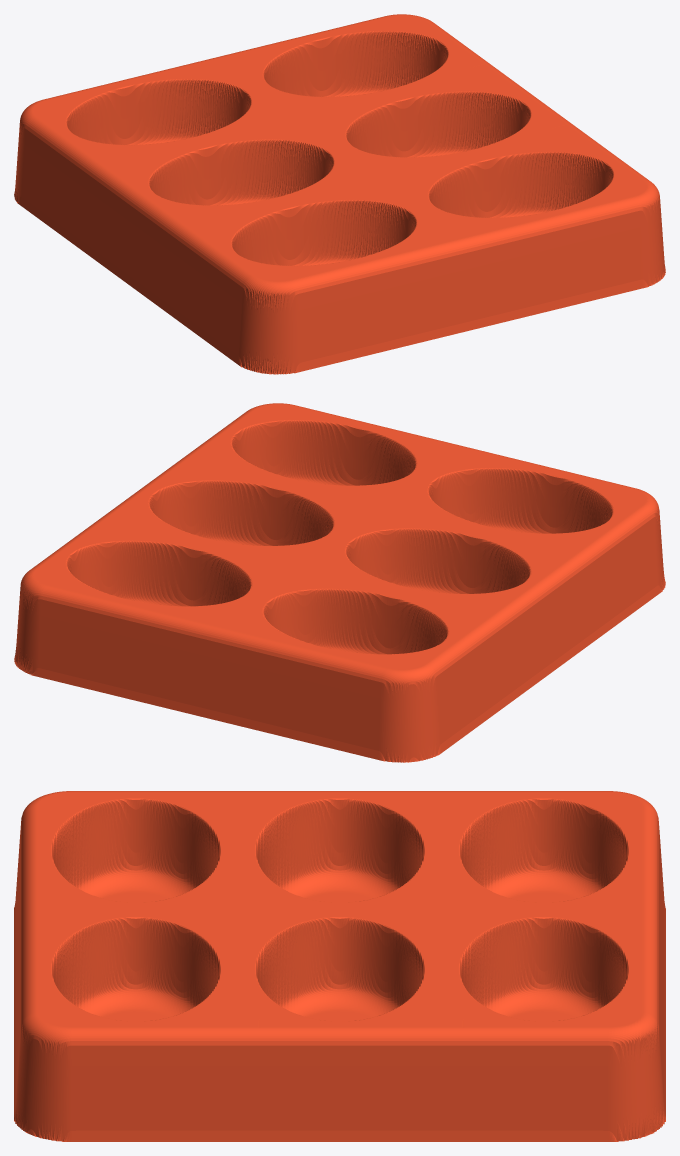
The model's file is mold.glb.
The picture shows the model from 3 angles, top to bottom: view 1: azimuth 30°, elevation 25°; view 2: azimuth 150°, elevation 25°; view 3: azimuth 270°, elevation 25°; orthographic projection. The views are drawn at different scales.
Visible parts, largest first — view 1: geometry_0; view 2: geometry_0; view 3: geometry_0.
Part boxes in pixels (<box>): geometry_0: <box>14,14,665,374</box>; geometry_0: <box>14,403,665,762</box>; geometry_0: <box>14,791,665,1141</box>.
Bounding box in the file's own units: 0.0947 × 0.0182 × 0.1026.
